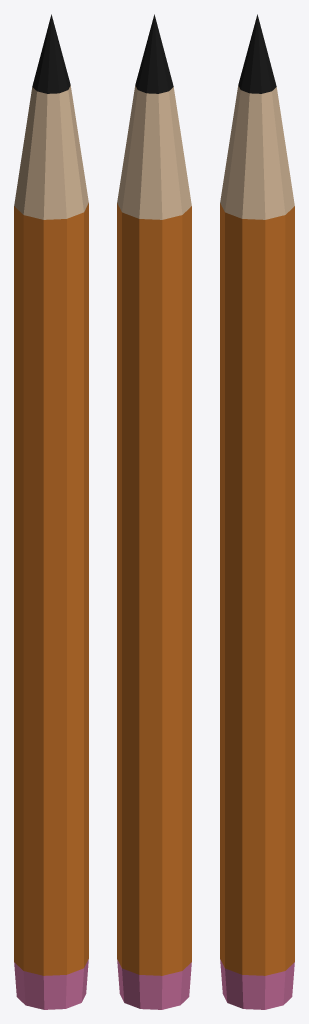
The model's file is pensil.fbx.
The picture shows the model from 3 angles, left to right: view 1: azimuth 90°, elevation 25°; view 2: azimuth 150°, elevation 25°; view 3: azimuth 330°, elevation 25°; orthographic projection.
Visible parts, largest first — view 1: pensil; view 2: pensil; view 3: pensil.
Part boxes in pixels (<box>): pensil: <box>14,14,88,1009</box>; pensil: <box>117,14,191,1009</box>; pensil: <box>220,14,294,1009</box>.
Bounding box in the file's own units: 0.9023 × 13.28 × 0.9168.
